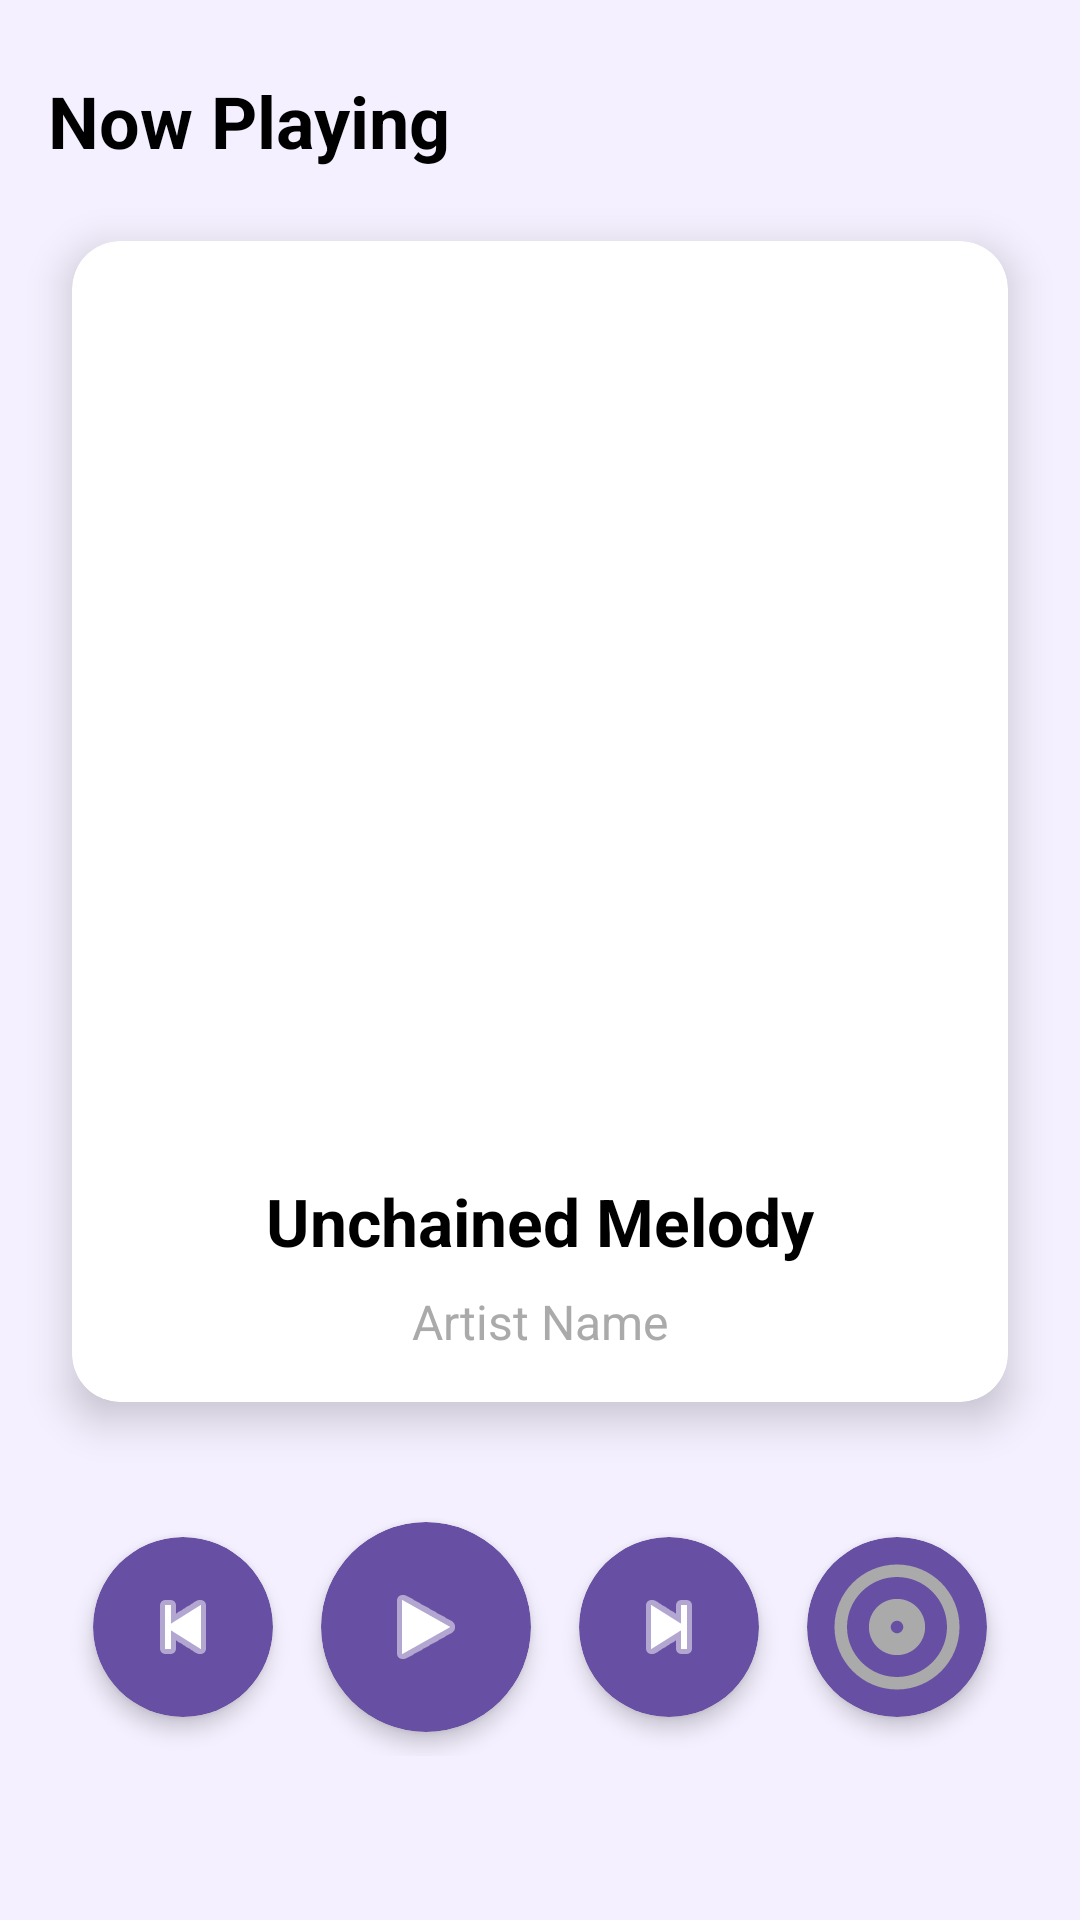

Icon bounding boxes for this 1080px x 1920px phone screenshot, format bbox(x1, y1, x2, y2):
Next Song: bbox(579, 1537, 759, 1717)
Play/Pause: bbox(321, 1522, 531, 1732)
Previous Song: bbox(93, 1537, 273, 1717)
